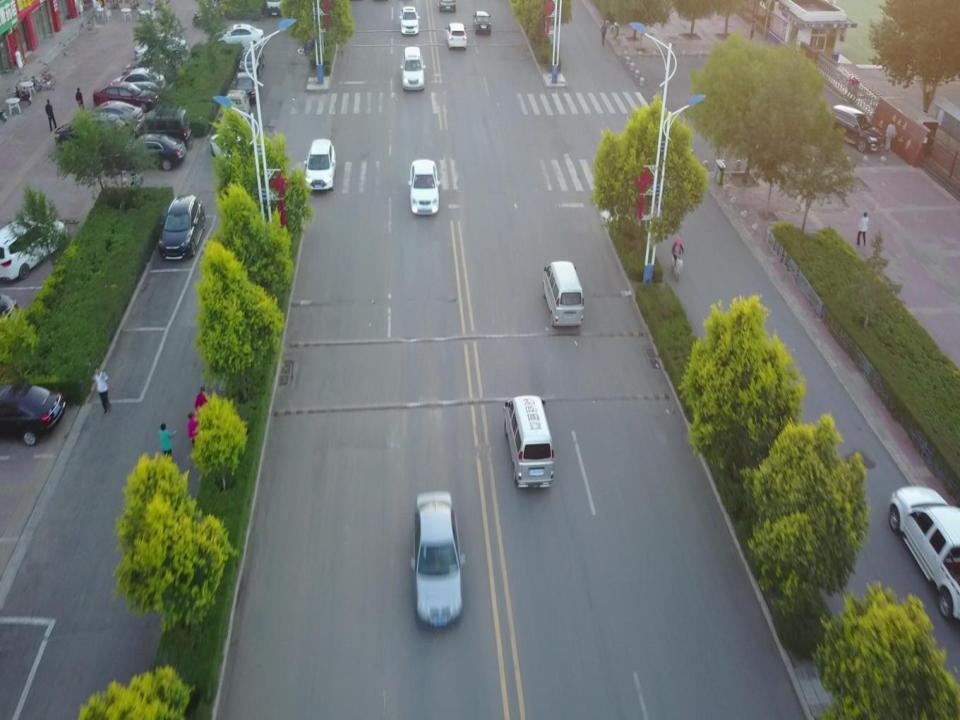car: (891, 485, 960, 622), (410, 492, 467, 628), (0, 206, 68, 283), (0, 382, 64, 445), (159, 195, 204, 260), (55, 116, 130, 155), (828, 106, 884, 152), (114, 136, 185, 172), (93, 82, 158, 120), (79, 100, 144, 134), (121, 53, 186, 80), (408, 160, 440, 214), (304, 138, 335, 191), (210, 128, 253, 165), (113, 69, 167, 95), (133, 32, 188, 56), (400, 46, 426, 90), (217, 24, 264, 47), (239, 43, 264, 77), (446, 22, 468, 52), (234, 72, 257, 100), (400, 6, 420, 34), (473, 9, 493, 35)
van: (503, 395, 556, 490), (541, 260, 583, 326), (133, 106, 192, 147), (216, 88, 251, 127)
